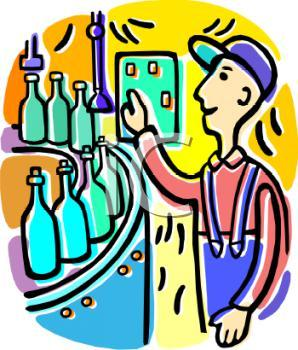bottle: (16, 166, 64, 280), (48, 160, 95, 262), (72, 146, 118, 243), (90, 136, 127, 216), (16, 73, 49, 144), (67, 80, 98, 152), (45, 70, 73, 144)
person: (118, 31, 294, 348)
